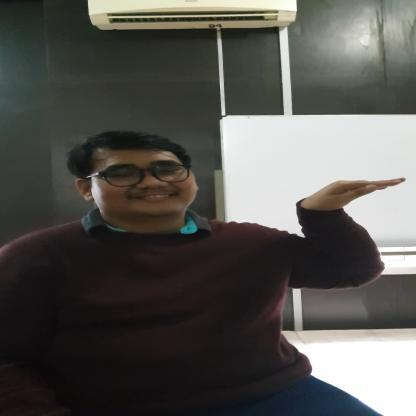Z: (290, 176, 412, 286)
